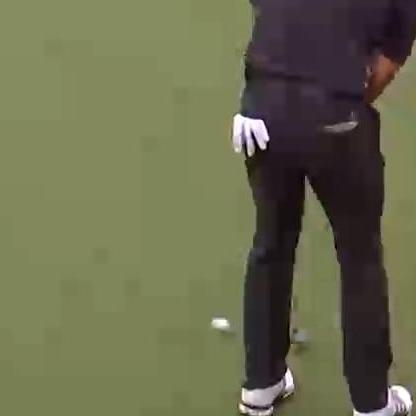golfball: (207, 315, 230, 332)
